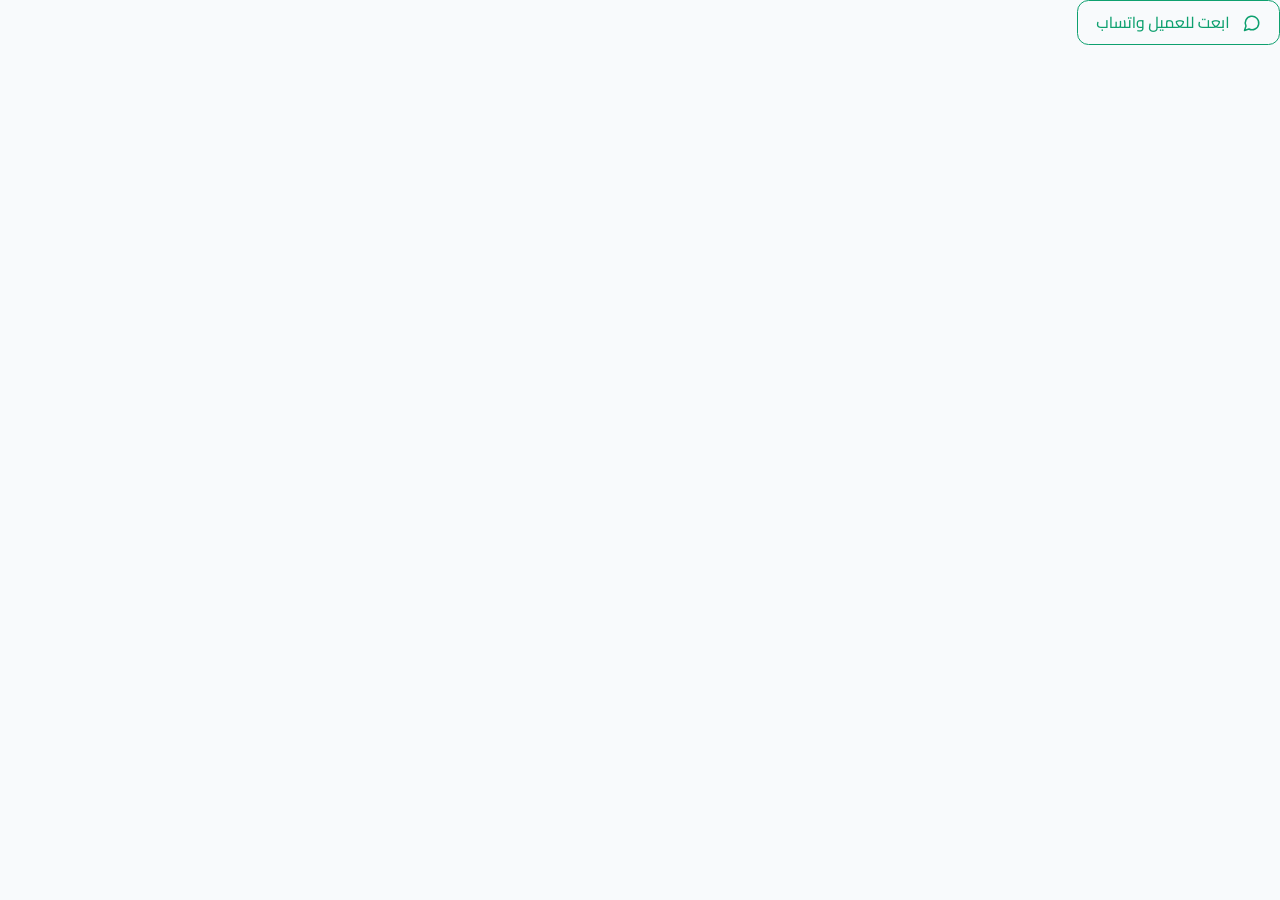
Test: زرار الواتساب — رقم مش موجود ← تنبيه ← صفحة الحساب (owner 2026-11-19) › no number: an alert says so and takes him to the customer's page with the phone open
Later steps or results of the test are not shown.
What coordinates should you click on to do the following:
click the button "ابعت للعميل واتساب"
I would click on:
 (1179, 22)
Its box is [1077,0,1279,45].
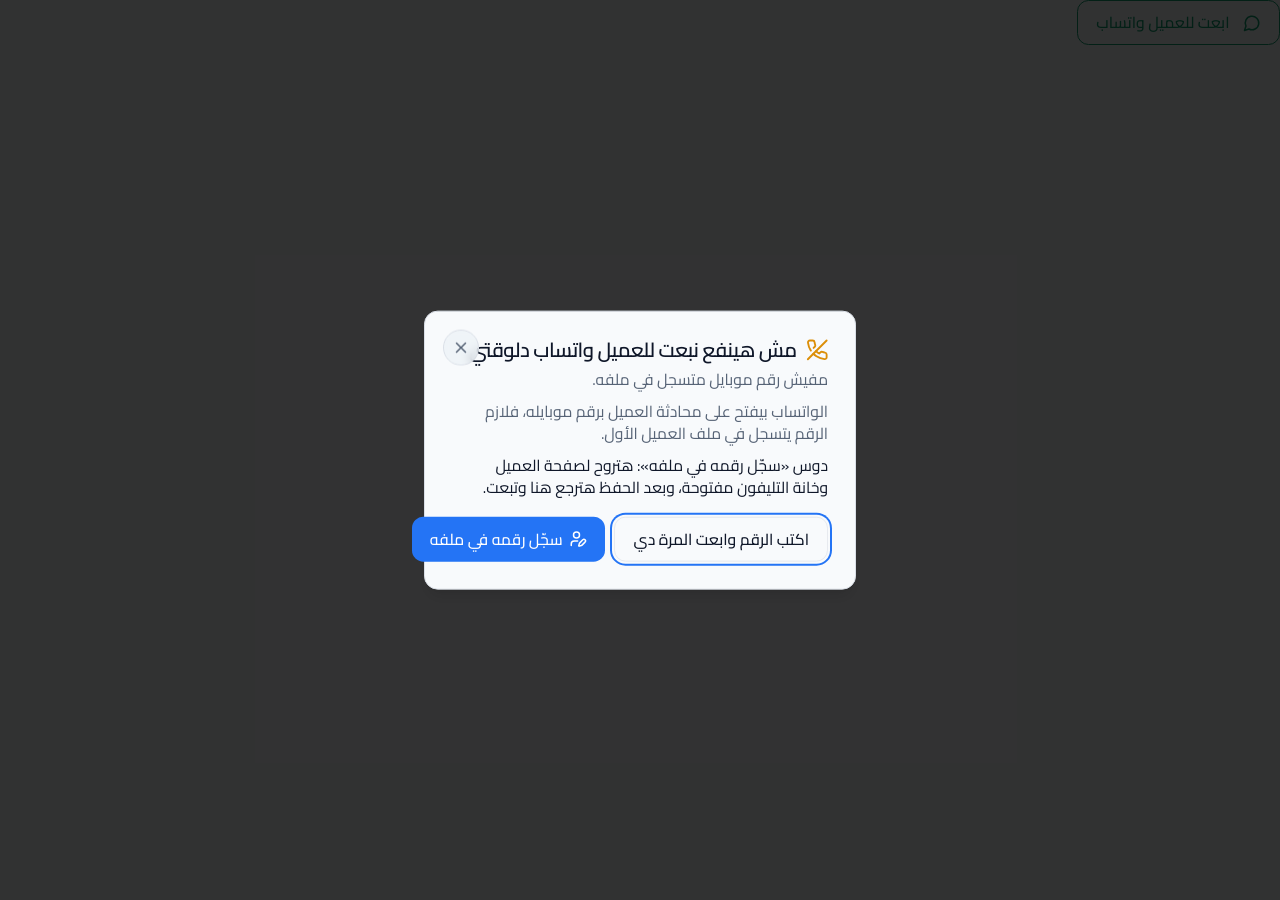
Expected: the element with test id "wa-problem" shows "مفيش رقم موبايل متسجل", [592,364,828,394]
